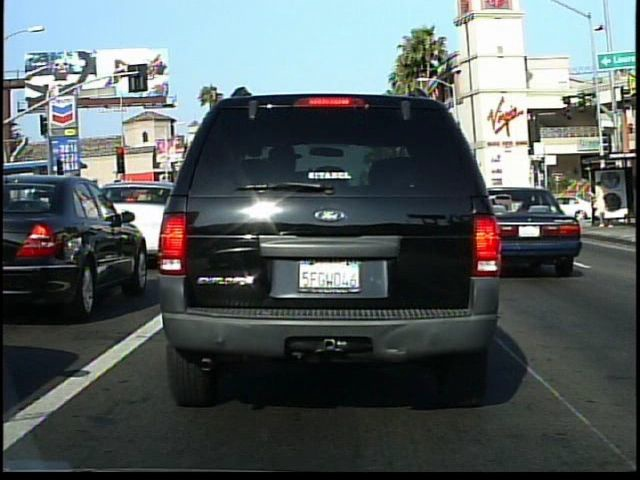person: (591, 175, 615, 231)
